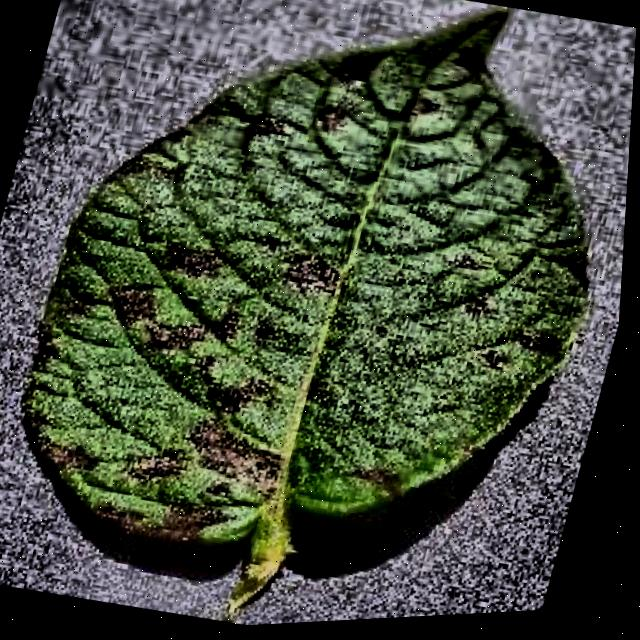Potato_leaf_early_blight: (27, 9, 586, 616)
